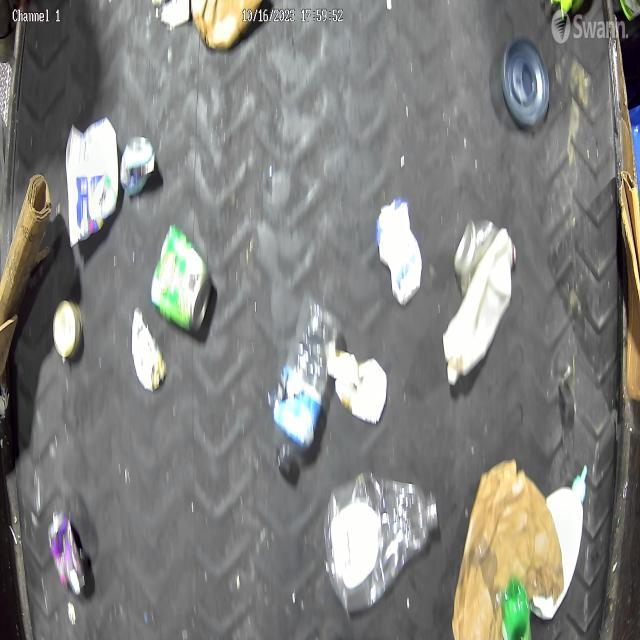can: (150, 220, 213, 332), (502, 35, 551, 129), (48, 508, 90, 596), (456, 220, 500, 295), (120, 136, 156, 196), (52, 300, 84, 362)
milk_jug: (442, 227, 518, 387)
plastic_bottle: (324, 472, 438, 614), (272, 293, 343, 482)
